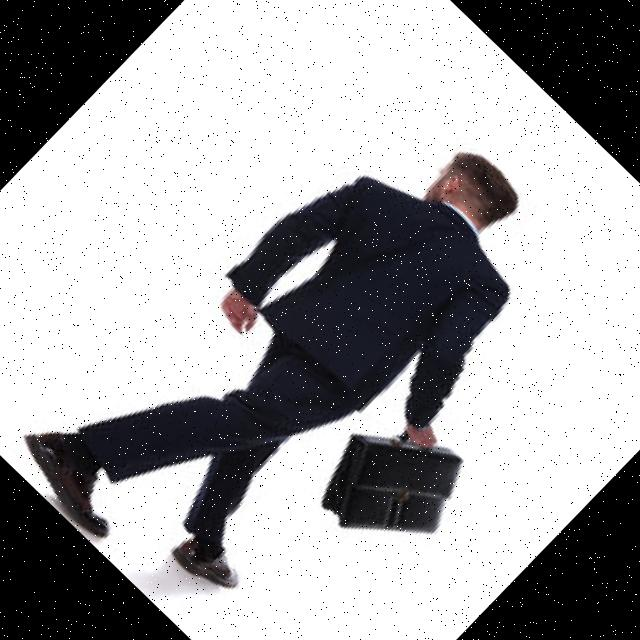Person: (6, 62, 640, 640)
